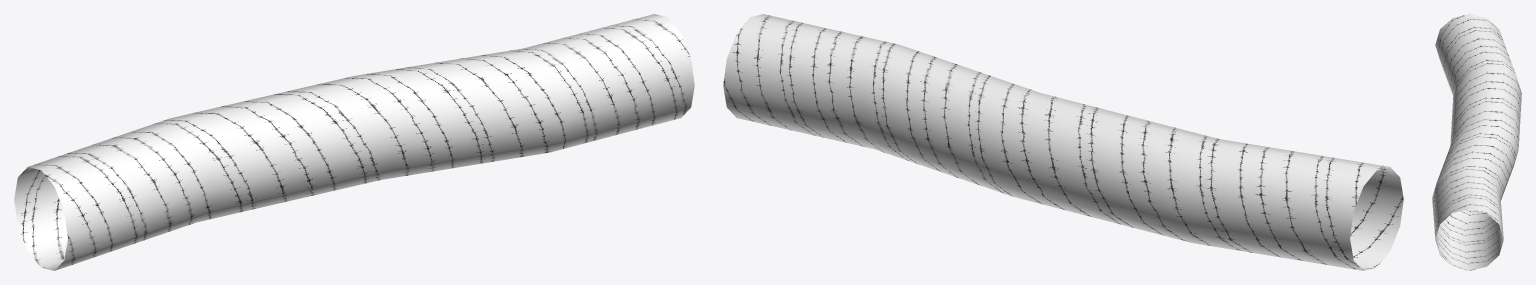
Rendered from barbwire_1.obj.
3 renders of one model, left to right at view 1: azimuth 30°, elevation 25°; view 2: azimuth 150°, elevation 25°; view 3: azimuth 270°, elevation 25°, orthographic. The views are drawn at different scales.
Parts seen in each view (by area): view 1: barbwire; view 2: barbwire; view 3: barbwire.
Boxes of the visible parts, left/top/right/bottom form: barbwire: left=14, top=14, right=694, bottom=270; barbwire: left=723, top=14, right=1403, bottom=270; barbwire: left=1432, top=14, right=1521, bottom=270.
Bounding box in the file's own units: 86.69 × 12.88 × 16.87.
1 material, 1 textured.
